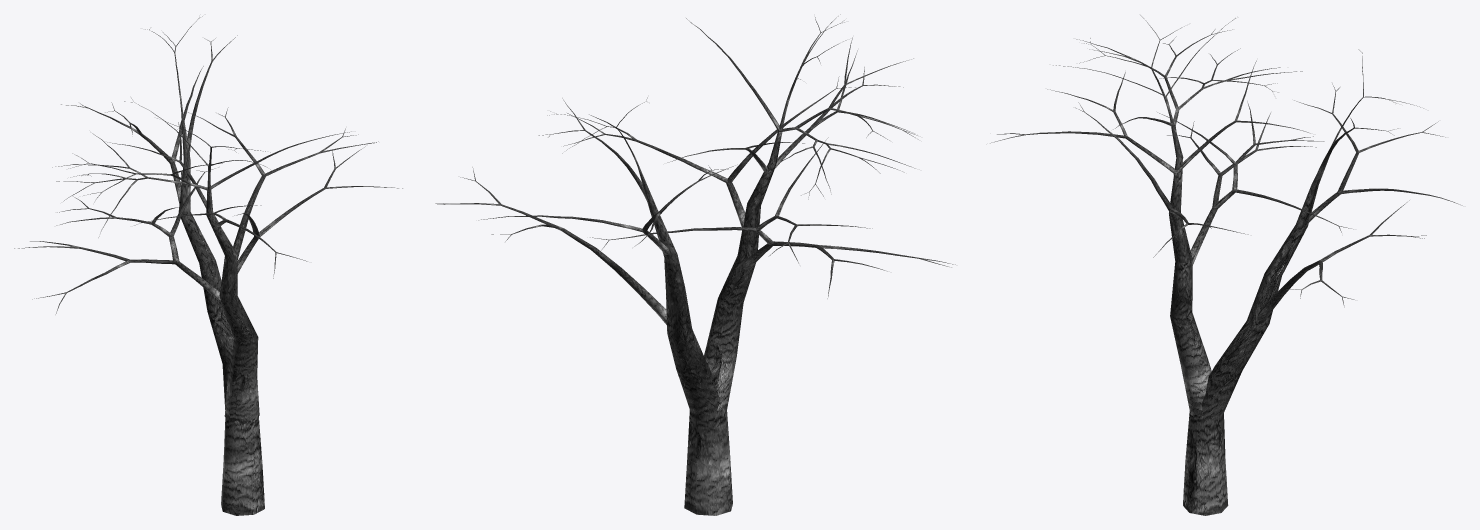
The model's file is tree1.fbx.
The picture shows the model from 3 angles, left to right: view 1: azimuth 30°, elevation 25°; view 2: azimuth 150°, elevation 25°; view 3: azimuth 270°, elevation 25°; orthographic projection. The views are drawn at different scales.
Parts seen in each view (by area): view 1: tree.003; view 2: tree.003; view 3: tree.003.
Part boxes in pixels (x1,y1,x2,y2): tree.003: [14, 16, 402, 515]; tree.003: [435, 14, 955, 515]; tree.003: [990, 15, 1462, 515].
Bounding box in the file's own units: 2000 × 2063 × 2000.
1 material, 1 textured.
